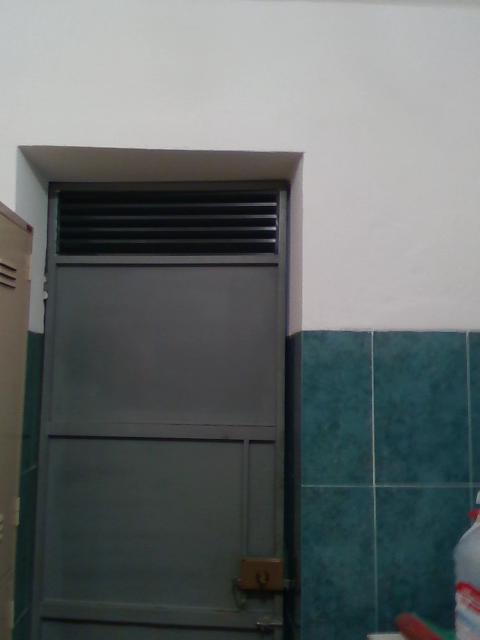door: (40, 177, 289, 639)
